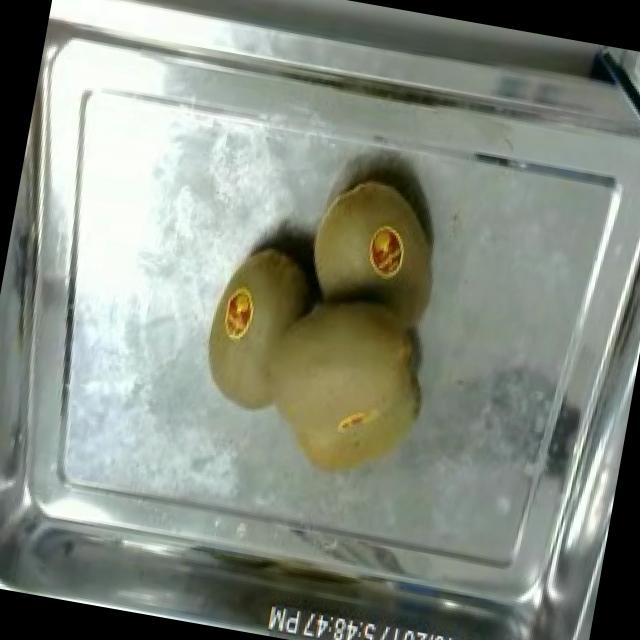Fruit: (176, 256, 452, 498), (296, 160, 454, 304)
